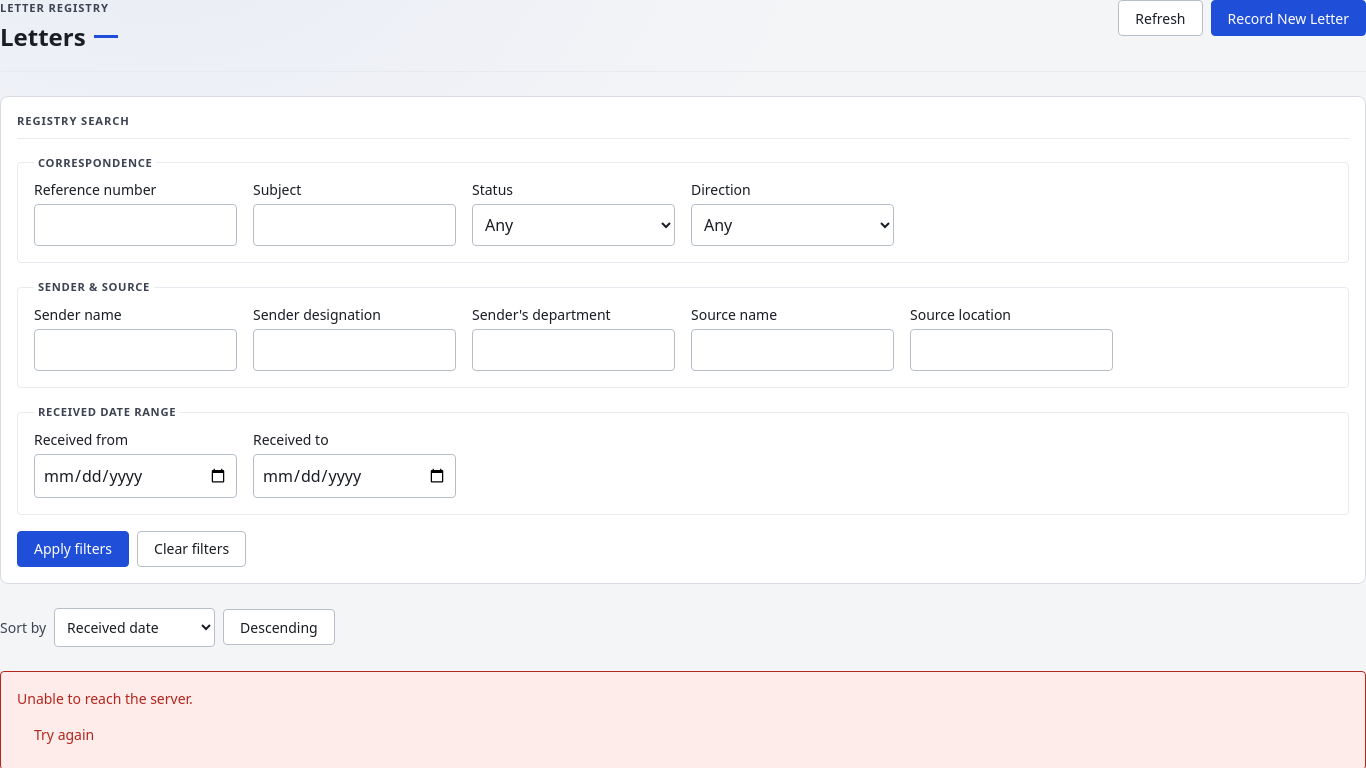
Test: LetterListPage › shows an error state on API failure, with a working retry
Expected: the message shows "reach the server", left=17, top=689, right=193, bottom=708
Click the button "Try again": x=64, y=735 left=17, top=717, right=111, bottom=753
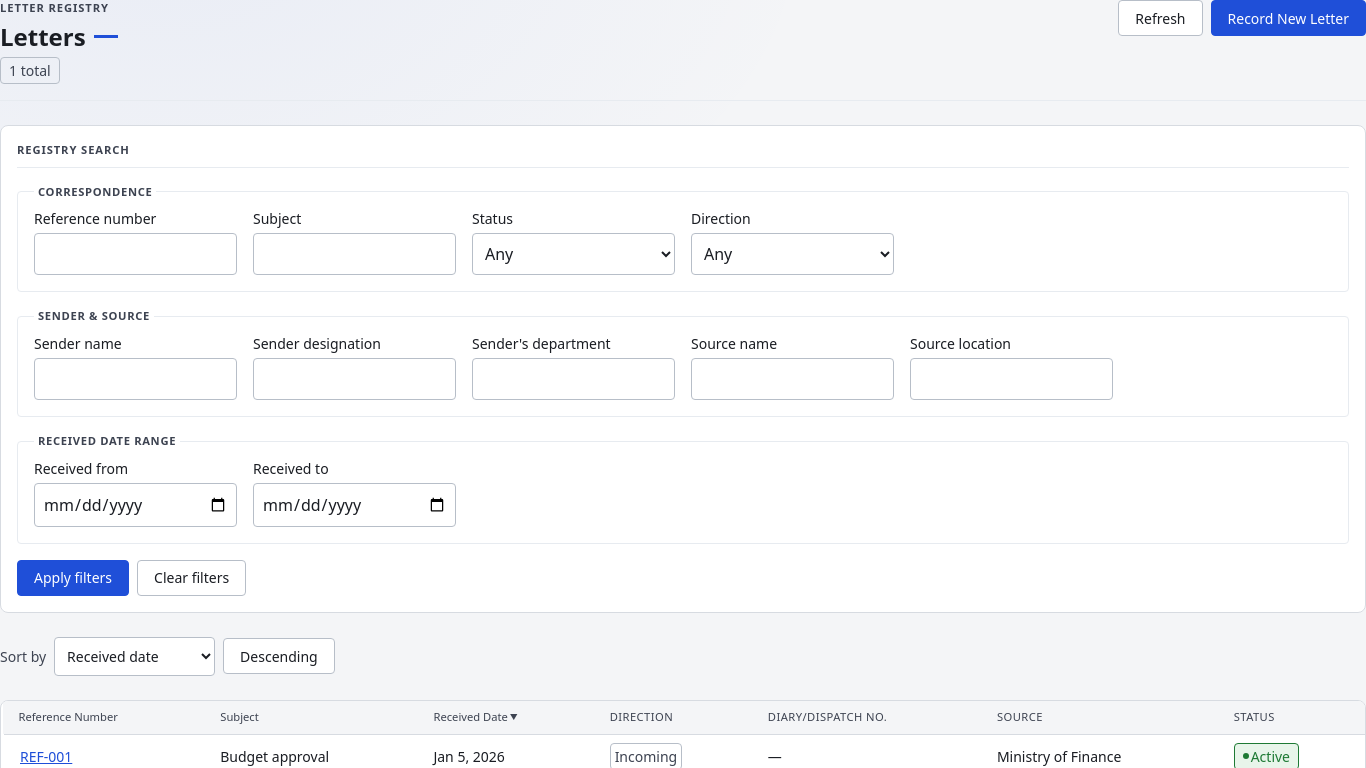
Expected: the link "REF-001" is shown, left=20, top=747, right=72, bottom=766
